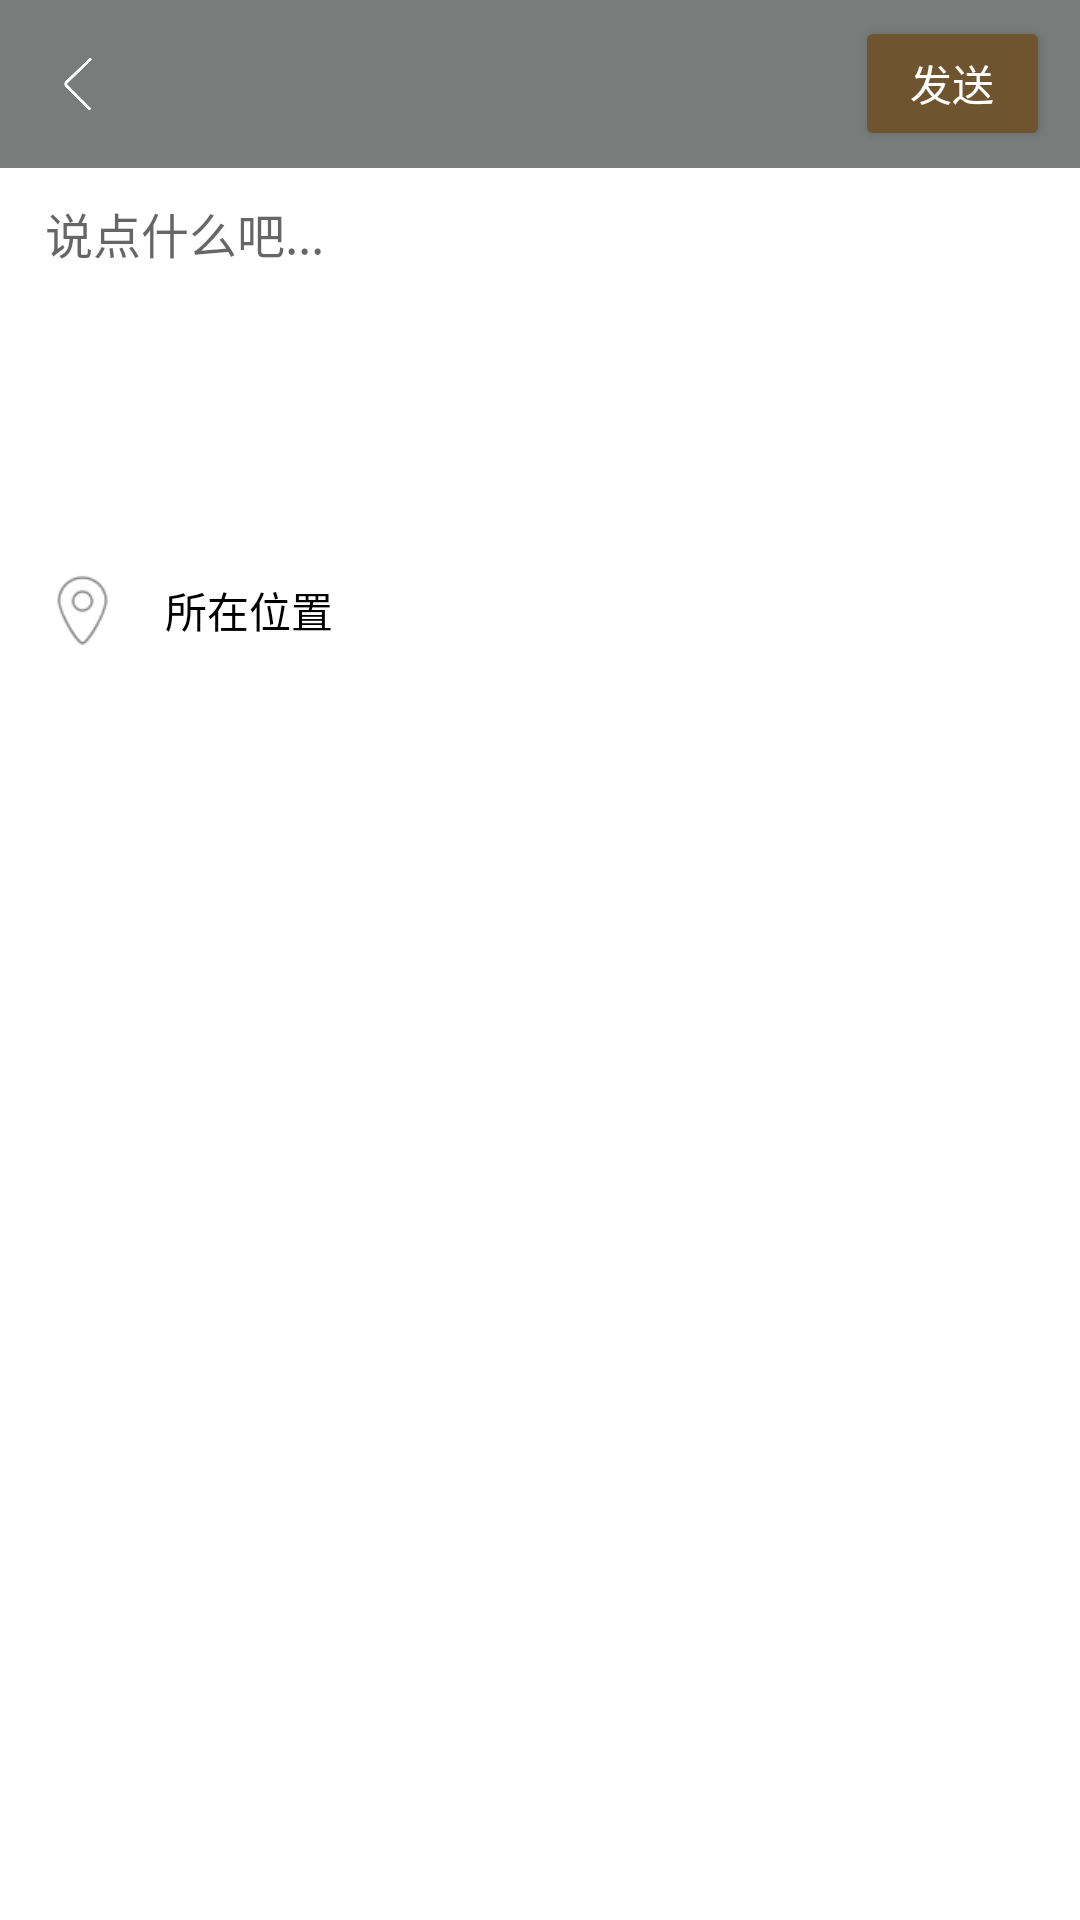

Screen size 1080w x 1920h. Icon name, then its box in pixels as {"x1": x1, "y1": y1, "x2": x2, "y2": y2}:
back: {"x1": 64, "y1": 58, "x2": 92, "y2": 110}
location: {"x1": 57, "y1": 576, "x2": 108, "y2": 645}
